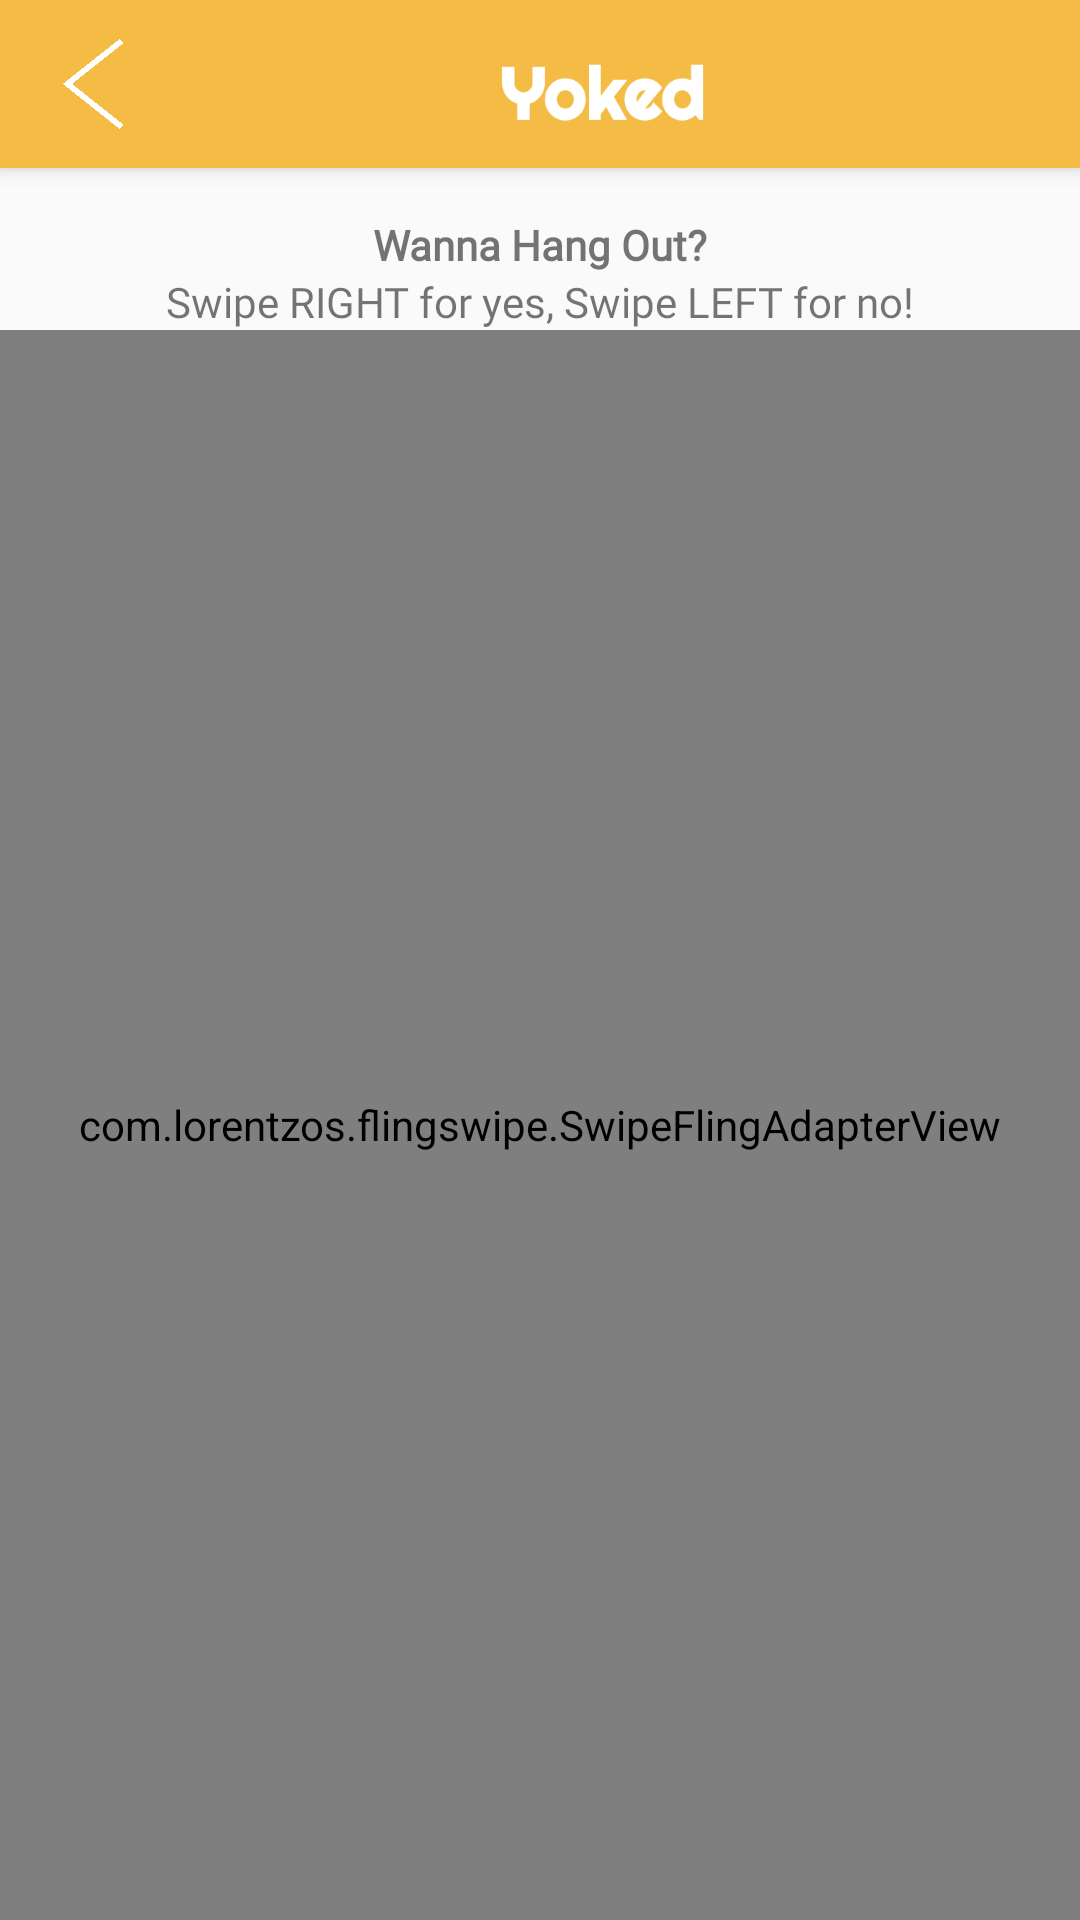

Icon click points for this 1080×1920 phone screenshot, format (x=x, y=y):
back: (x=93, y=84)
